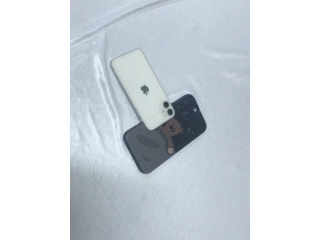phone: (123, 93, 207, 175), (109, 48, 175, 131)
